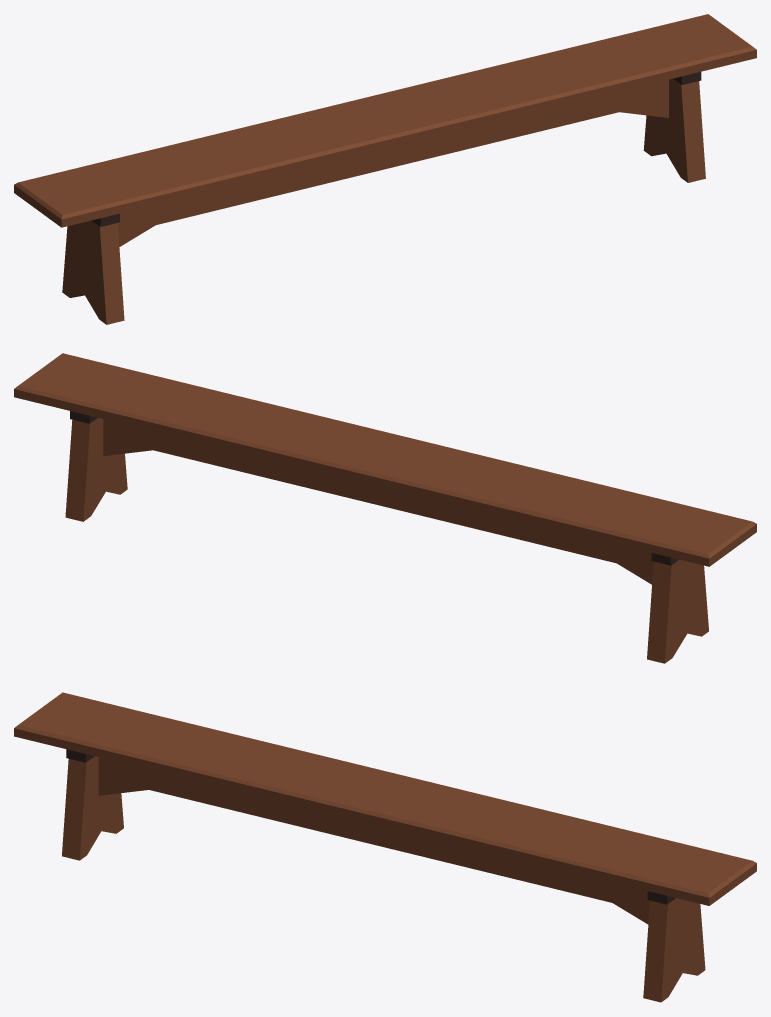
Rendered from bench.fbx.
3 views of the same model, one above another, from view 1: azimuth 30°, elevation 25°; view 2: azimuth 150°, elevation 25°; view 3: azimuth 330°, elevation 25° (orthographic).
Parts seen in each view (by area): view 1: polySurface49; view 2: polySurface49; view 3: polySurface49.
Boxes of the visible parts, bbox=[...] form: polySurface49: bbox=[14, 14, 756, 324]; polySurface49: bbox=[14, 353, 756, 663]; polySurface49: bbox=[14, 692, 756, 1002].
Bounding box in the file's own units: 13.77 × 2.28 × 1.63.
